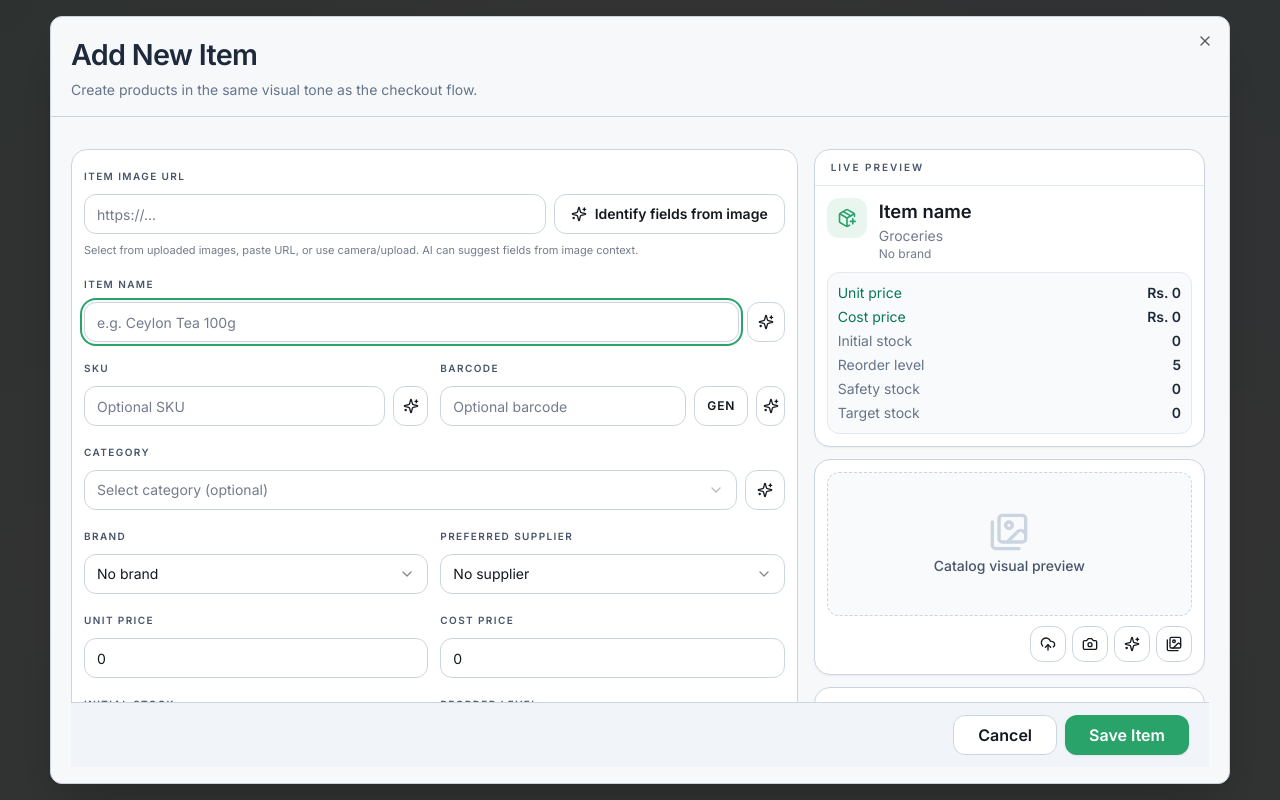
Scenario: NewItemDialog barcode flow › shows invalid, duplicate, and valid inline validation states
Type "123" into the field labelled "Barcode" at (563, 406), box [440,386,686,426]
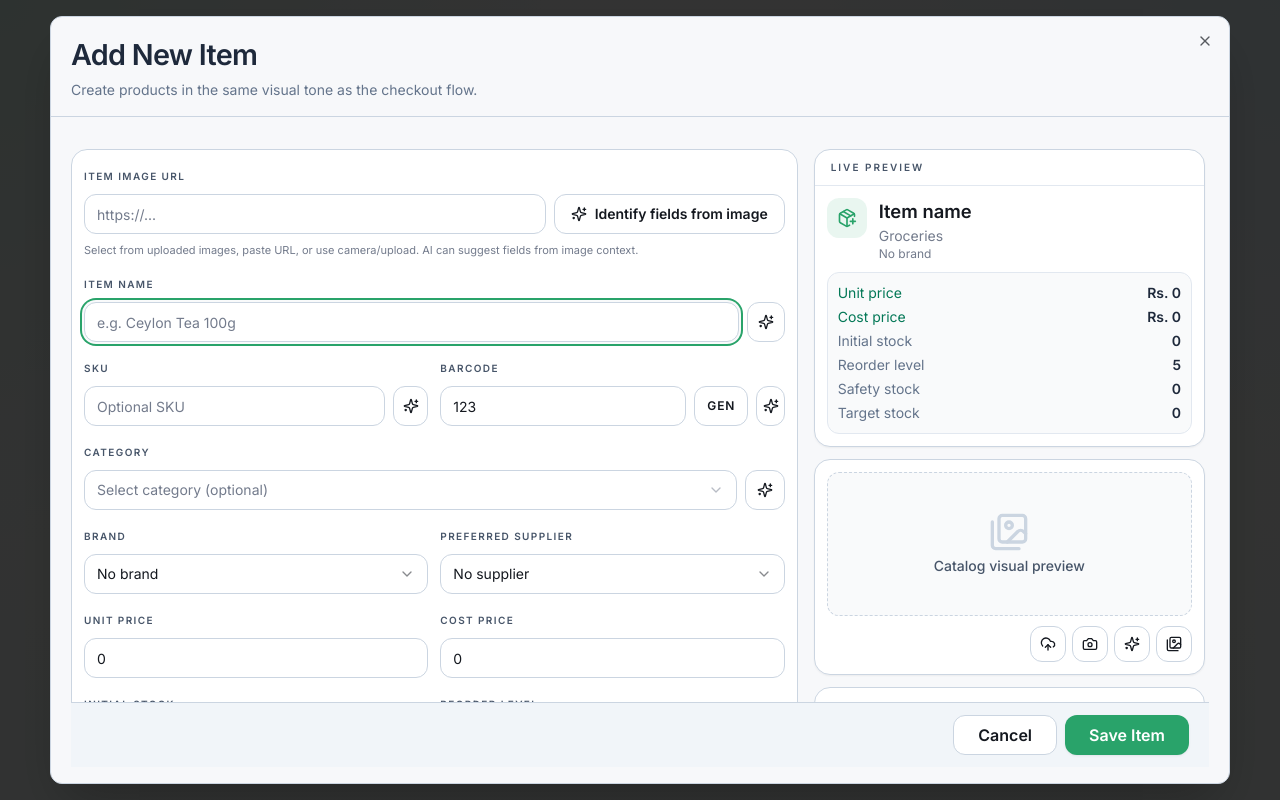
Leave the field labelled "Barcode", box [440,386,686,426]
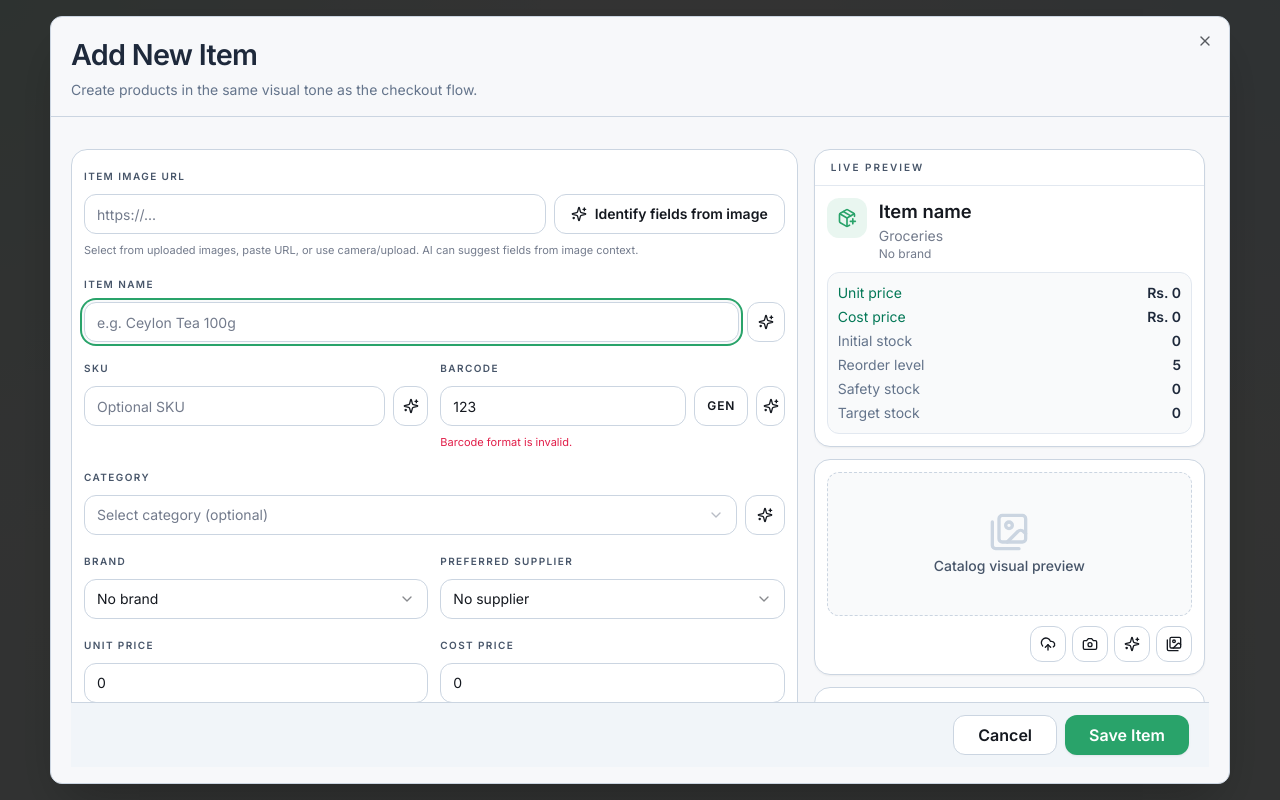
Check: the text "Barcode format is invalid." is shown, box [440,435,572,449]
Replace the text in the field labelled "Barcode" with "4006381333931" at (563, 406), box [440,386,686,426]
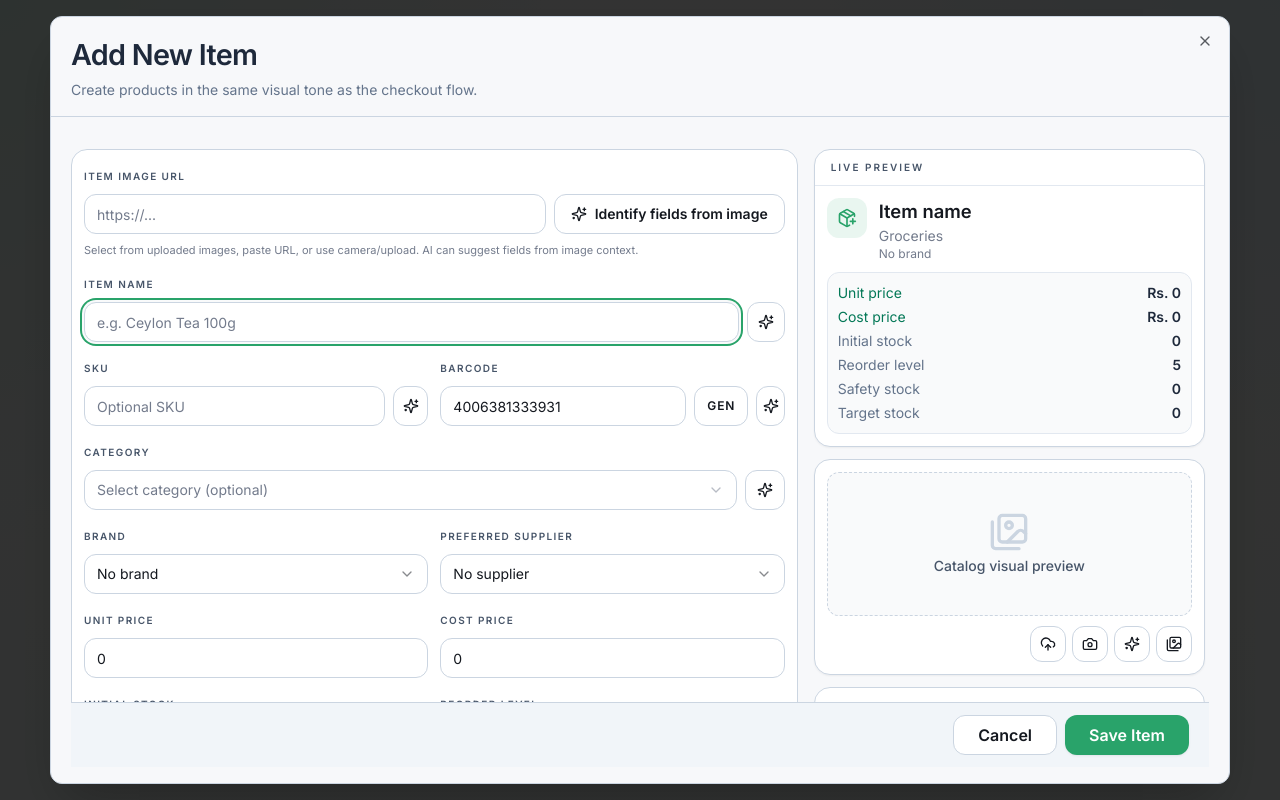
Leave the field labelled "Barcode", box [440,386,686,426]
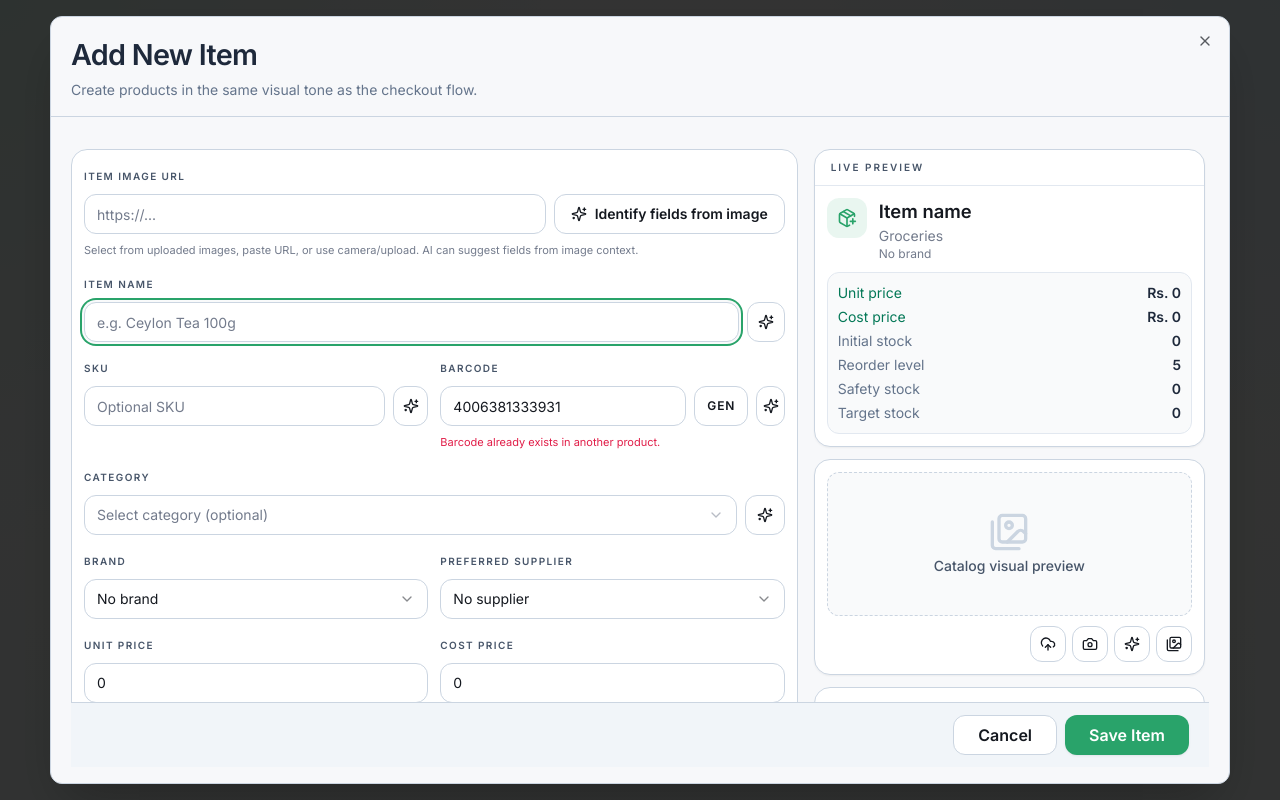
Check: the text "Barcode already exists in another product." is shown, box [440,435,660,449]
Replace the text in the field labelled "Barcode" with "5901234123457" at (563, 406), box [440,386,686,426]
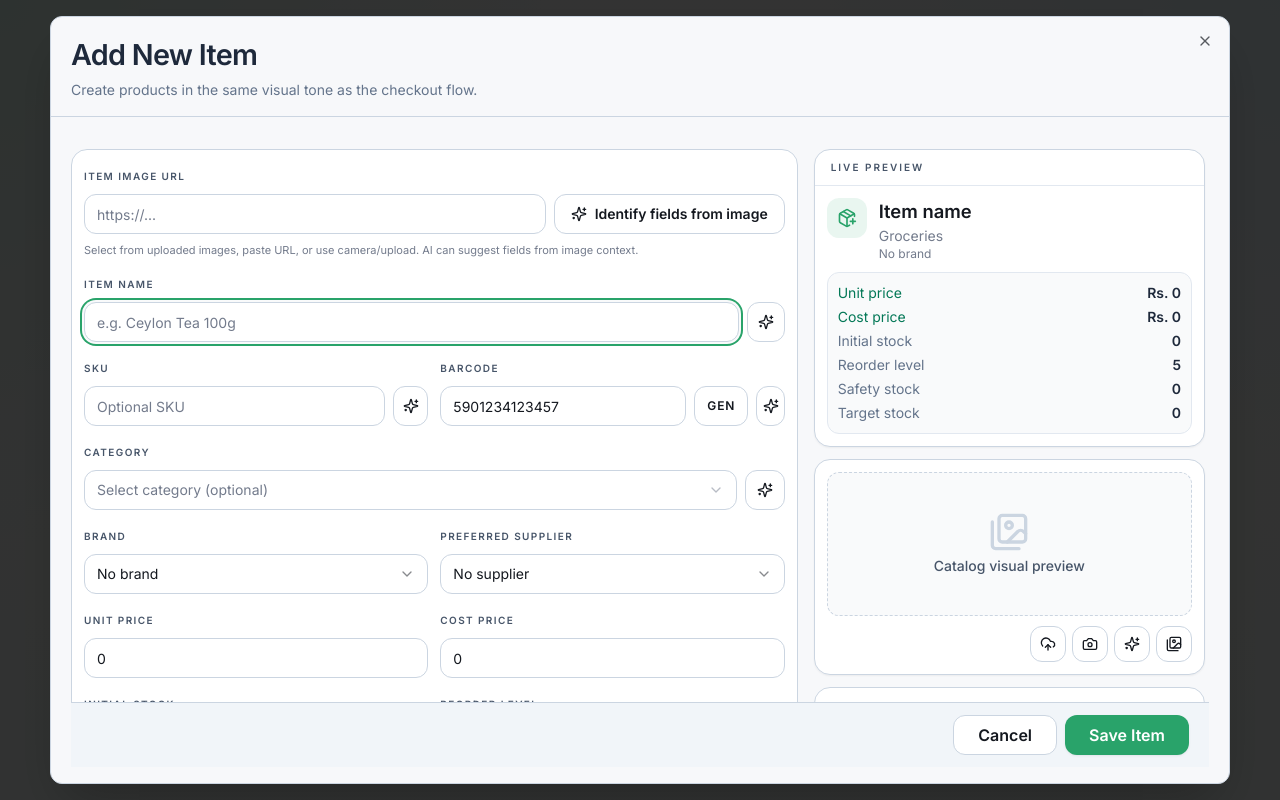
Leave the field labelled "Barcode", box [440,386,686,426]
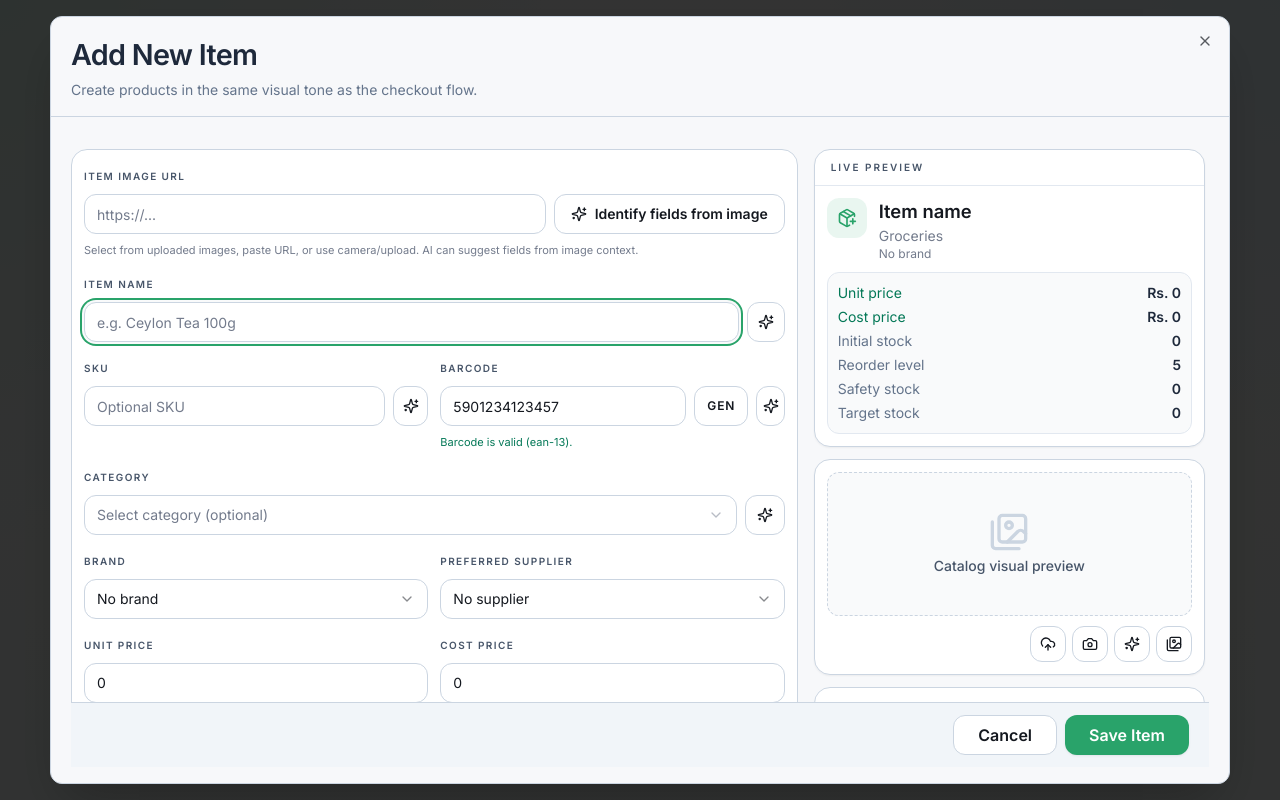
Check: the text "Barcode is valid (ean-13)." is shown, box [440,435,572,449]
